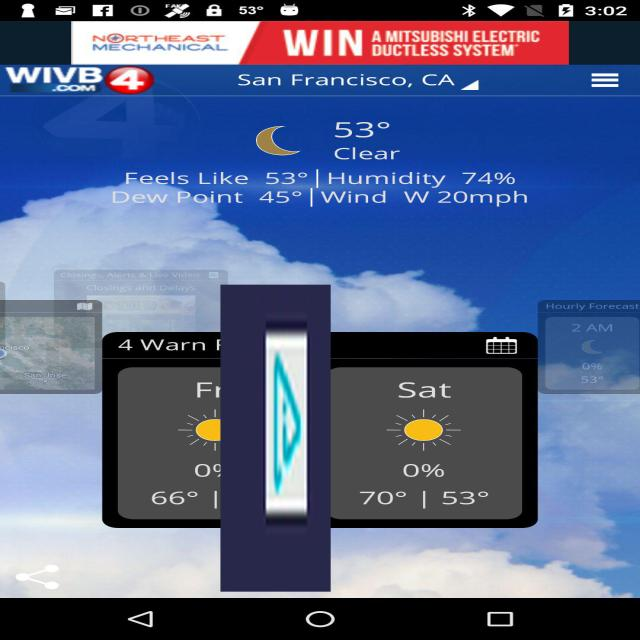sneaking: (220, 284, 330, 592)
